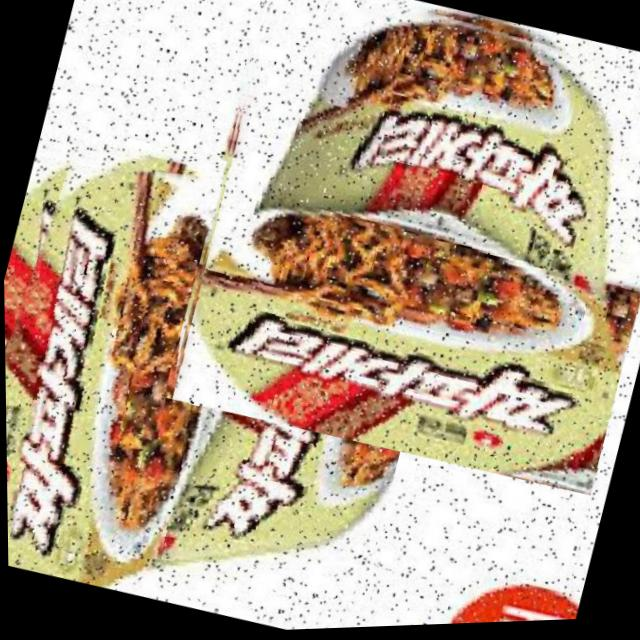Miscellaneous: (1, 106, 464, 640), (157, 0, 640, 511)
